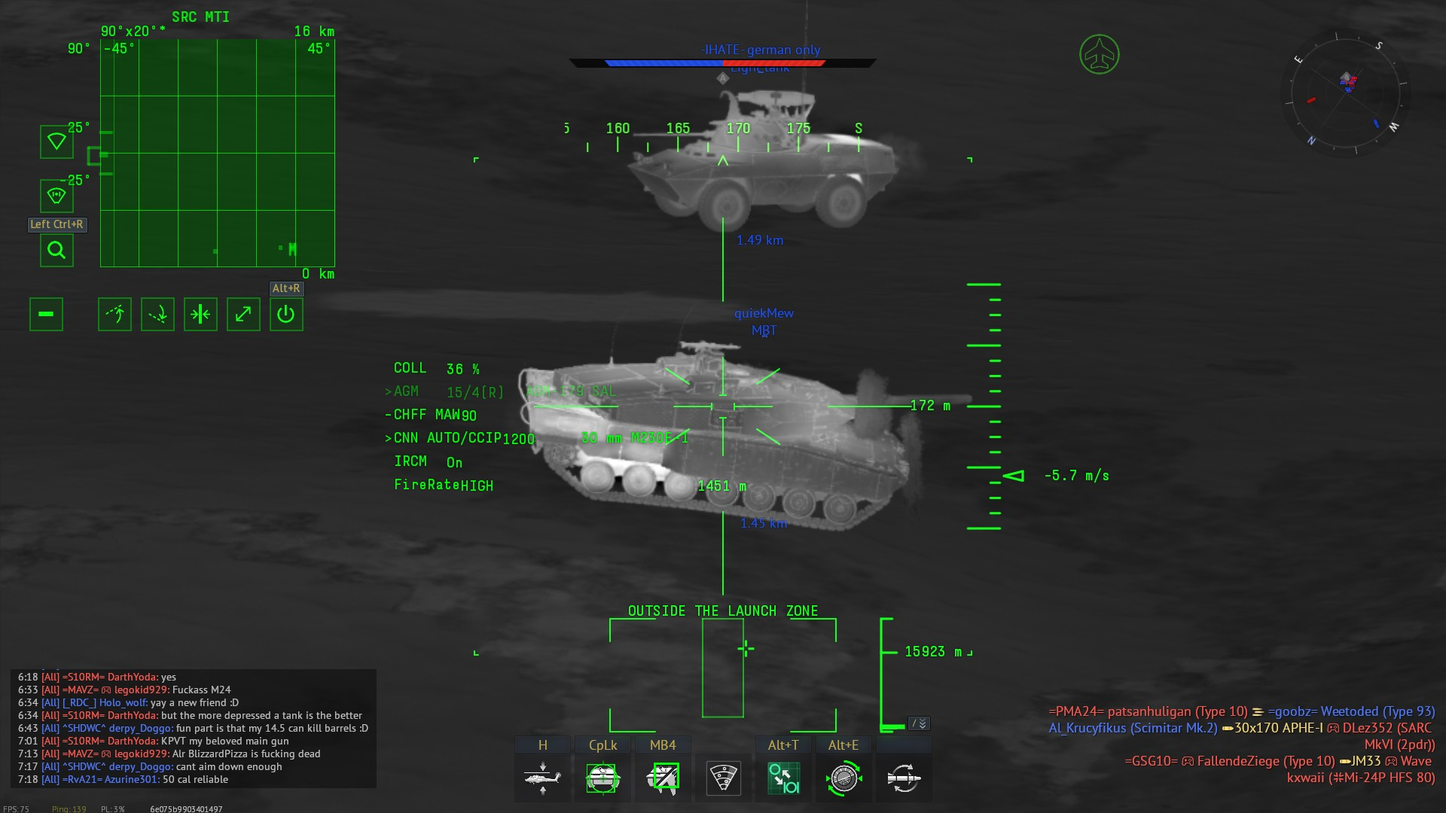leopard2: (518, 345, 970, 533)
